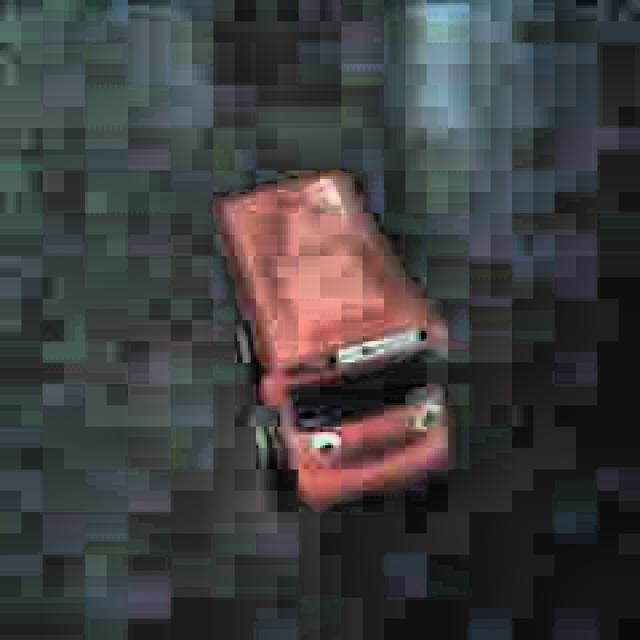bus: (212, 168, 452, 502)
